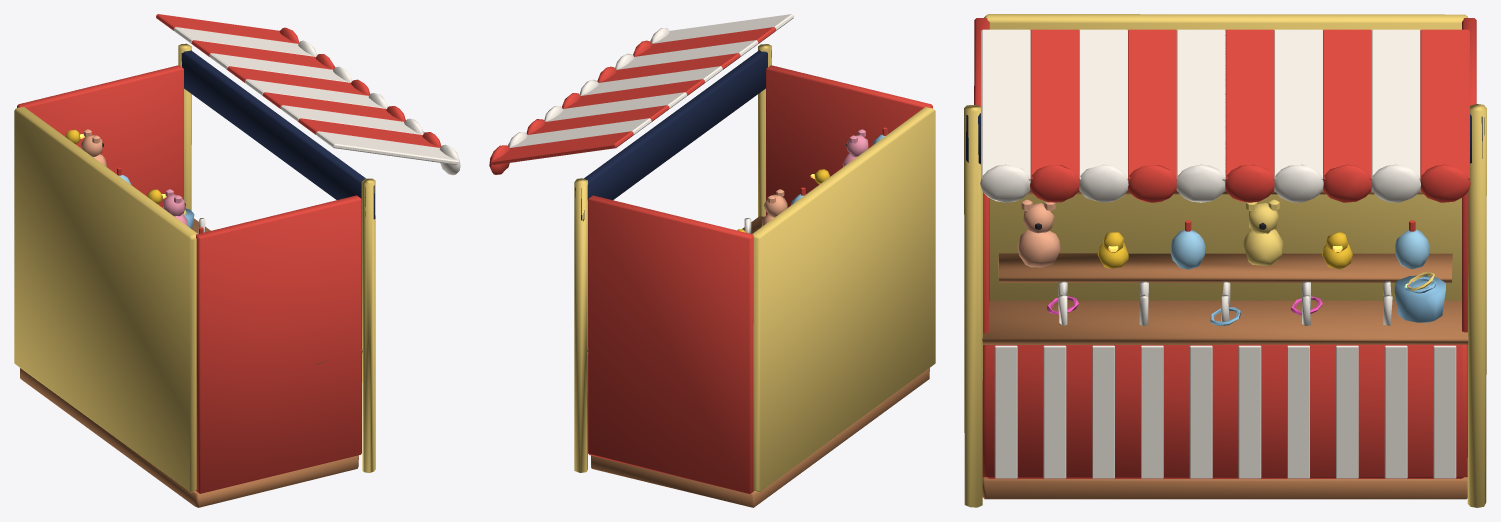
The model's file is hoopla_stall.glb.
3 renders of one model, left to right at view 1: azimuth 30°, elevation 25°; view 2: azimuth 150°, elevation 25°; view 3: azimuth 270°, elevation 25°, orthographic. The views are drawn at different scales.
Visible parts, largest first — view 1: hoopla_stall; view 2: hoopla_stall; view 3: hoopla_stall.
Part boxes in pixels (left/top/right/bottom): hoopla_stall: left=14, top=14, right=460, bottom=507; hoopla_stall: left=489, top=14, right=935, bottom=507; hoopla_stall: left=964, top=14, right=1486, bottom=507.
Size of the model in its own units: 2.66 by 3.09 by 3.22.
Materials: 1 (1 with a texture image).
